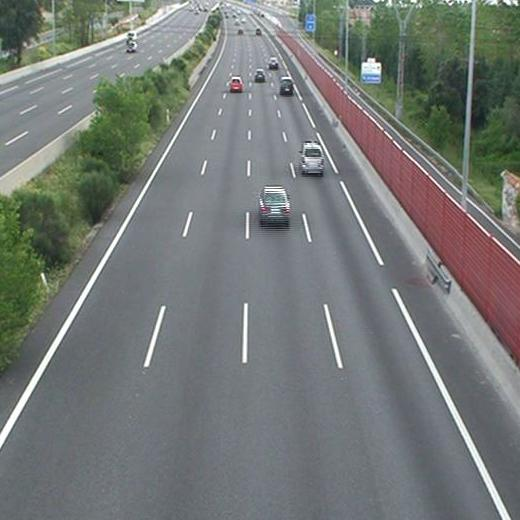car: (260, 187, 290, 219), (300, 142, 324, 174), (279, 77, 294, 95), (230, 78, 243, 92), (254, 70, 265, 82), (269, 58, 279, 70)
